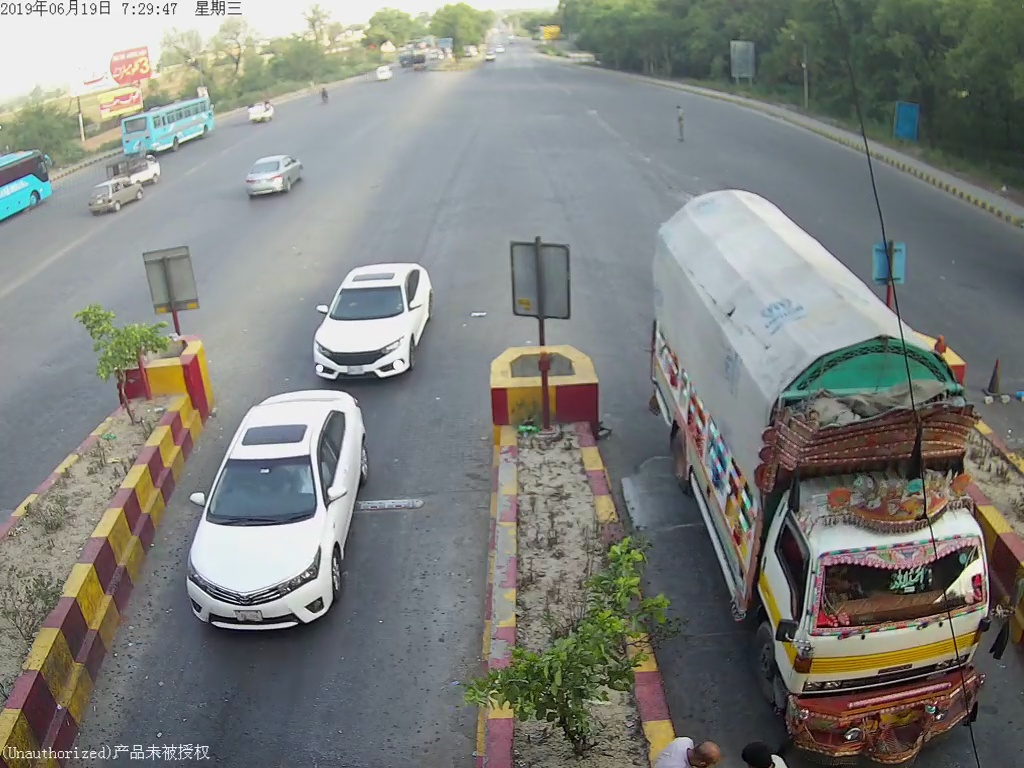Cat-1: (172, 384, 402, 636), (298, 255, 438, 378)
Cat-4: (639, 178, 1009, 743)
